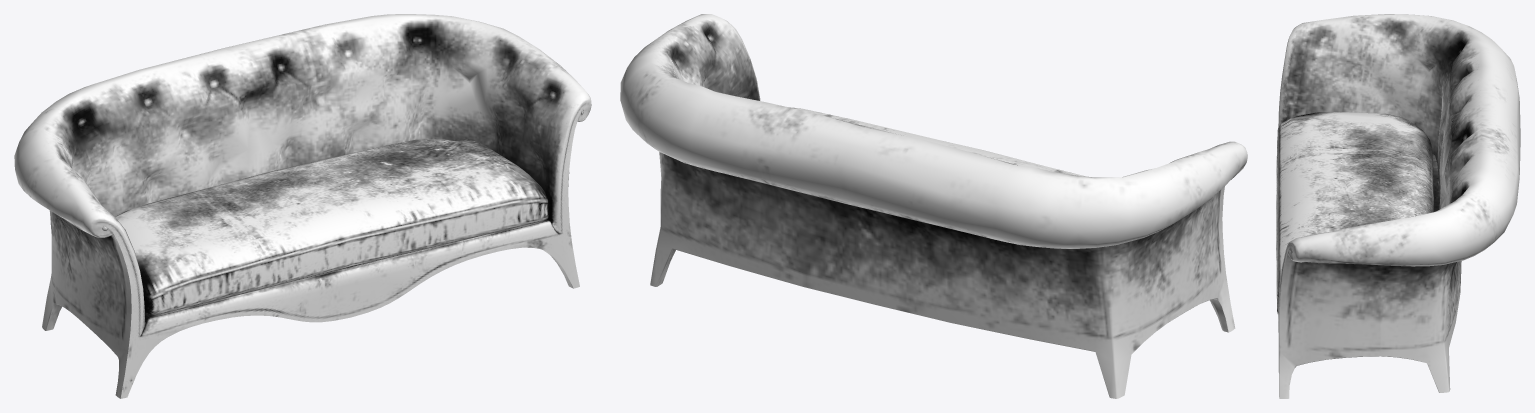
The model's file is sofa.glb.
3 renders of one model, left to right at view 1: azimuth 30°, elevation 25°; view 2: azimuth 150°, elevation 25°; view 3: azimuth 270°, elevation 25°, orthographic. The views are drawn at different scales.
Visible parts, largest first — view 1: tint_fabric; view 2: tint_fabric; view 3: tint_fabric.
Part boxes in pixels (<box>): tint_fabric: <box>14,14,591,398</box>; tint_fabric: <box>620,14,1247,398</box>; tint_fabric: <box>1276,14,1520,398</box>.
Size of the model in its own units: 1.81 by 0.7095 by 0.8177.
1 material, 1 textured.
